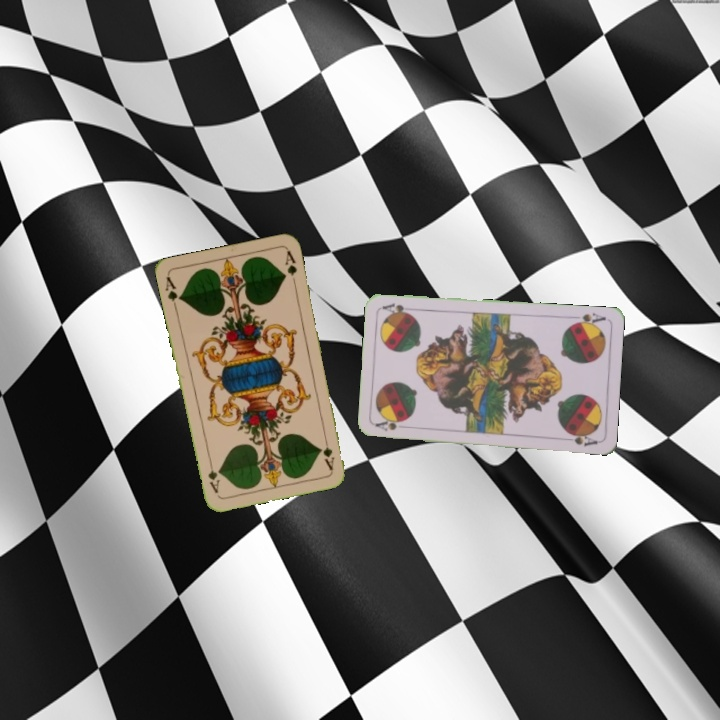GA: (161, 272, 184, 313), (319, 432, 337, 472)
SA: (567, 309, 608, 329), (372, 417, 413, 434)
